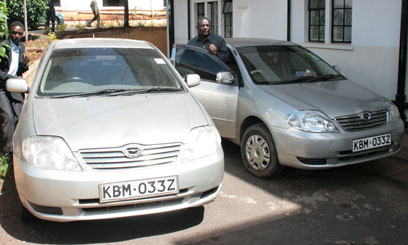licencePlate: (96, 177, 180, 198), (350, 134, 394, 150)
